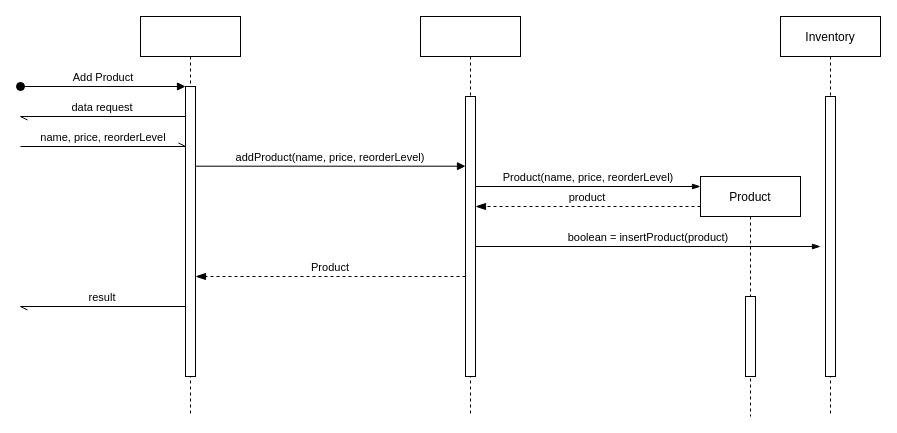
Image size: 897x433. Some labels were removed from this diagram. Here are the shapes that lost their labels. From the top down, the box of each, then its label:
(140, 16, 240, 416): UserInterface
(420, 16, 520, 416): Store
